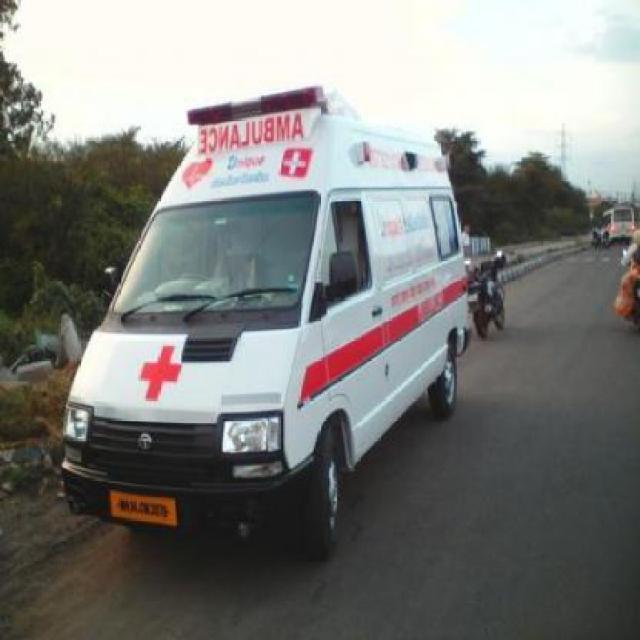Ambulance: (0, 235, 638, 638), (52, 81, 474, 564)
Bus: (588, 202, 638, 250)
